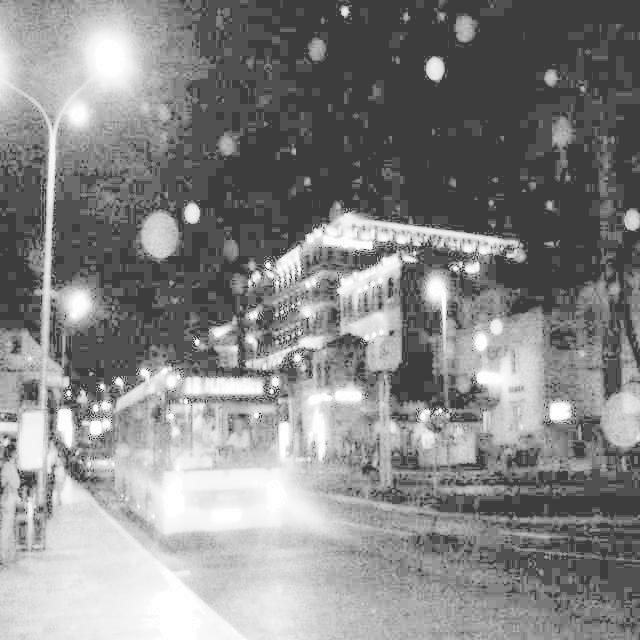Bus: (74, 358, 312, 576)
